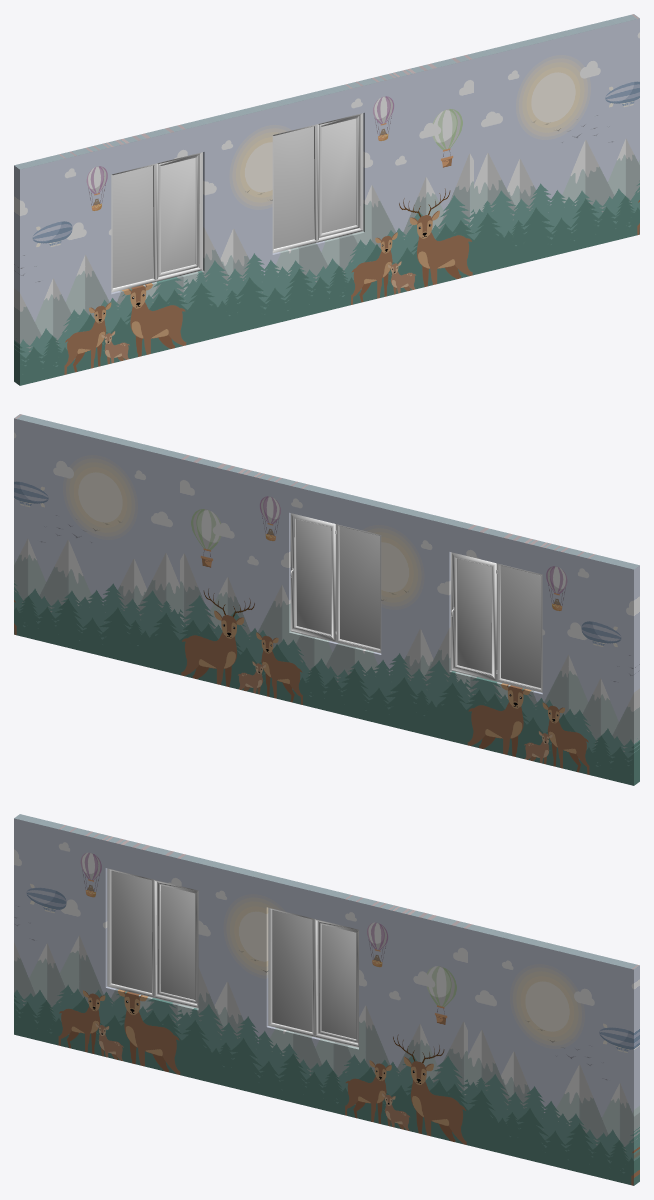
Rendered from WallWithWindow1V2.fbx.
3 renders of one model, top to bottom at view 1: azimuth 30°, elevation 25°; view 2: azimuth 150°, elevation 25°; view 3: azimuth 330°, elevation 25°, orthographic.
Parts seen in each view (by area): view 1: Plane.008; view 2: Plane.008; view 3: Plane.008.
Part boxes in pixels (<box>): Plane.008: <box>14,14,639,385</box>; Plane.008: <box>14,414,639,785</box>; Plane.008: <box>14,814,639,1185</box>.
Bounding box in the file's own units: 9 × 0.1731 × 3.
Materials: 7 (1 with a texture image).
